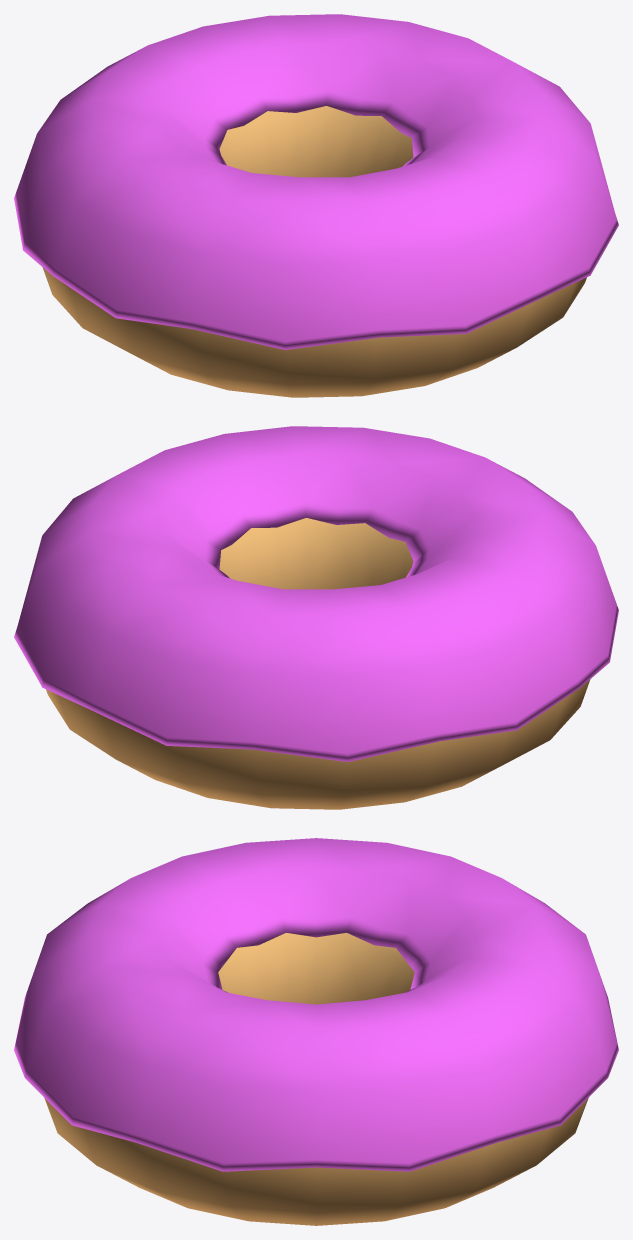
File: donut_pink.fbx
3 views of the same model, one above another, from view 1: azimuth 30°, elevation 25°; view 2: azimuth 150°, elevation 25°; view 3: azimuth 270°, elevation 25° (orthographic).
Visible parts, largest first — view 1: donut_pink; view 2: donut_pink; view 3: donut_pink.
Part boxes in pixels (x1,y1,x2,y2): donut_pink: [14, 14, 618, 397]; donut_pink: [14, 426, 618, 809]; donut_pink: [14, 838, 618, 1225].
Size of the model in its own units: 93.8 by 33.51 by 92.52.
